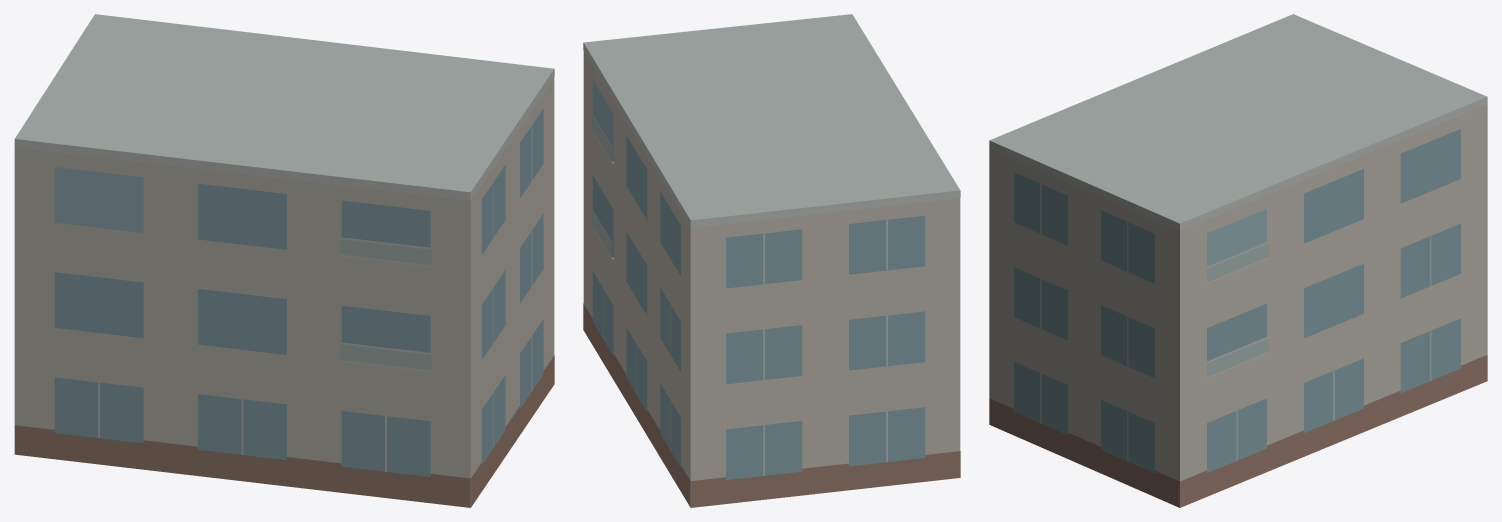
File: survey-upis-32959900.glb
The picture shows the model from 3 angles, left to right: view 1: azimuth 30°, elevation 25°; view 2: azimuth 150°, elevation 25°; view 3: azimuth 270°, elevation 25°; orthographic projection. The views are drawn at different scales.
Parts seen in each view (by area): view 1: survey-upis-32959900.tmp; view 2: survey-upis-32959900.tmp; view 3: survey-upis-32959900.tmp.
Boxes of the visible parts, x1=… form: survey-upis-32959900.tmp: x1=14, y1=14, x2=554, y2=507; survey-upis-32959900.tmp: x1=583, y1=14, x2=960, y2=507; survey-upis-32959900.tmp: x1=989, y1=14, x2=1487, y2=507.
Size of the model in its own units: 14.48 by 9.15 by 14.54.
